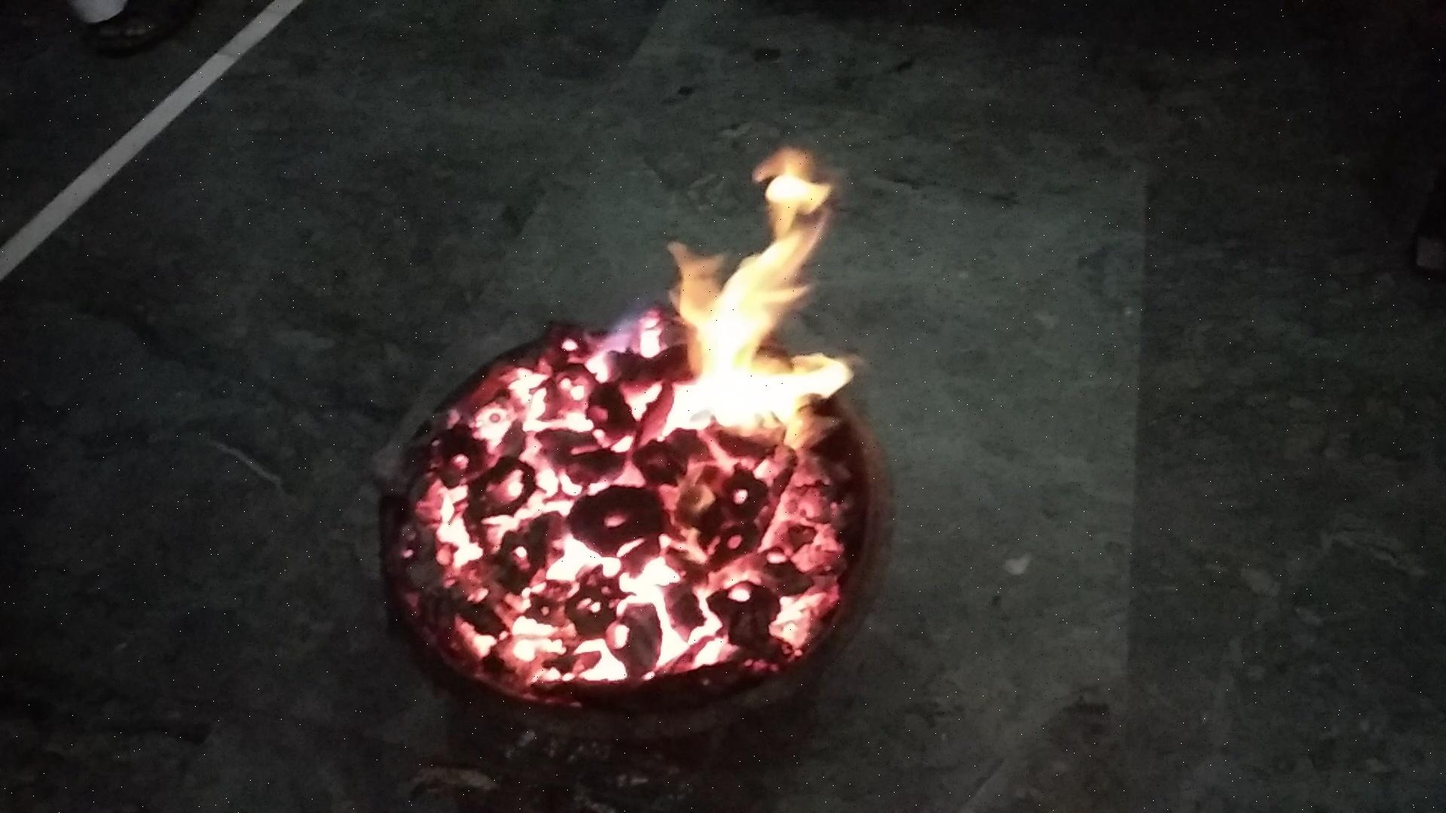fire: (658, 124, 905, 711), (385, 304, 656, 715)
